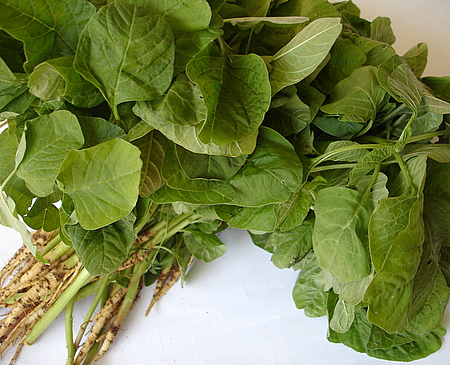Bayam: (46, 22, 353, 251)
